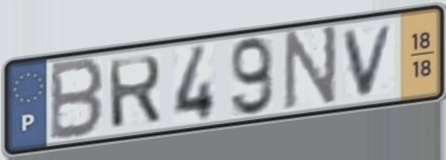4: (170, 42, 219, 124)
9: (228, 36, 277, 118)
B: (47, 55, 107, 144)
N: (281, 22, 341, 113)
R: (105, 53, 165, 132)
V: (340, 20, 399, 99)
